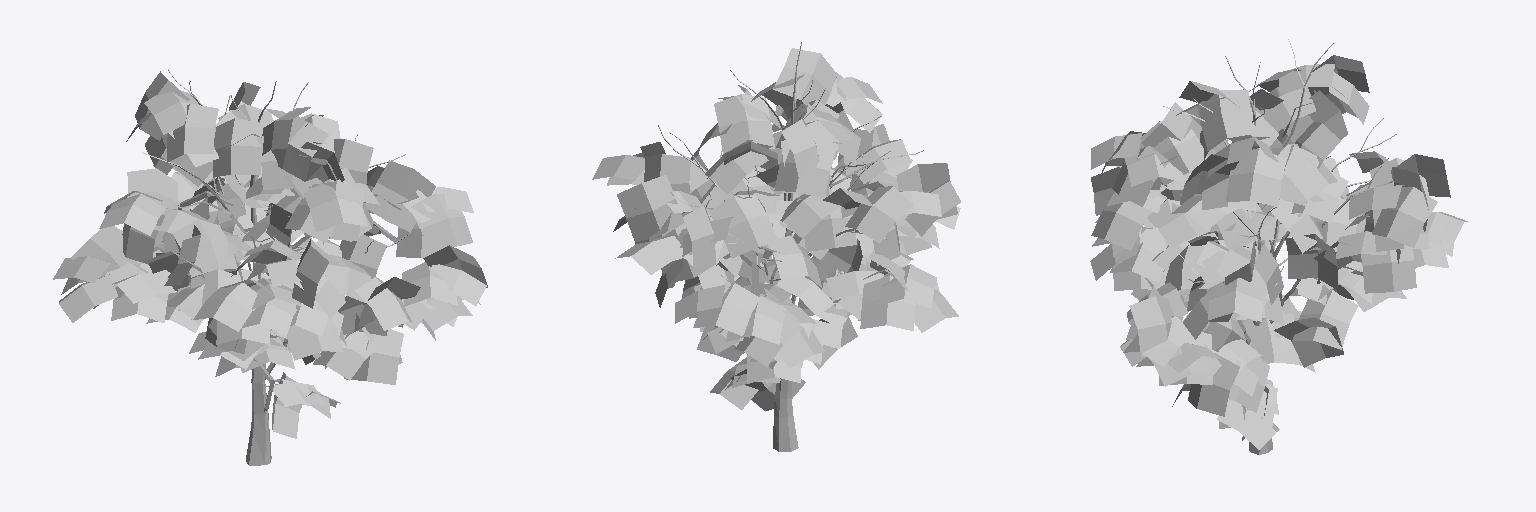
Rendered from tree2a_lod0.obj.
3 views of the same model, side by side, from view 1: azimuth 30°, elevation 25°; view 2: azimuth 150°, elevation 25°; view 3: azimuth 270°, elevation 25° (orthographic).
Parts seen in each view (by area): view 1: leaves 0.0 0.[number redacted] 0.0 0 0 0 0.[number redacted] 0.[number redacted], bark 0.[number redacted] -0.[number redacted] 0.[number redacted]; view 2: leaves 0.0 0.[number redacted] 0.0 0 0 0 0.[number redacted] 0.[number redacted], bark 0.[number redacted] -0.[number redacted] 0.[number redacted]; view 3: leaves 0.0 0.[number redacted] 0.0 0 0 0 0.[number redacted] 0.[number redacted], bark 0.[number redacted] -0.[number redacted] 0.[number redacted].
Boxes of the visible parts, x1=… form: leaves 0.0 0.[number redacted] 0.0 0 0 0 0.[number redacted] 0.[number redacted]: x1=53, y1=71, x2=487, y2=438; bark 0.[number redacted] -0.[number redacted] 0.[number redacted]: x1=142, y1=69, x2=409, y2=465; leaves 0.0 0.[number redacted] 0.0 0 0 0 0.[number redacted] 0.[number redacted]: x1=592, y1=48, x2=960, y2=410; bark 0.[number redacted] -0.[number redacted] 0.[number redacted]: x1=658, y1=42, x2=923, y2=451; leaves 0.0 0.[number redacted] 0.0 0 0 0 0.[number redacted] 0.[number redacted]: x1=1090, y1=55, x2=1467, y2=449; bark 0.[number redacted] -0.[number redacted] 0.[number redacted]: x1=1159, y1=39, x2=1407, y2=454.
Size of the model in its own units: 1 by 1 by 0.875.